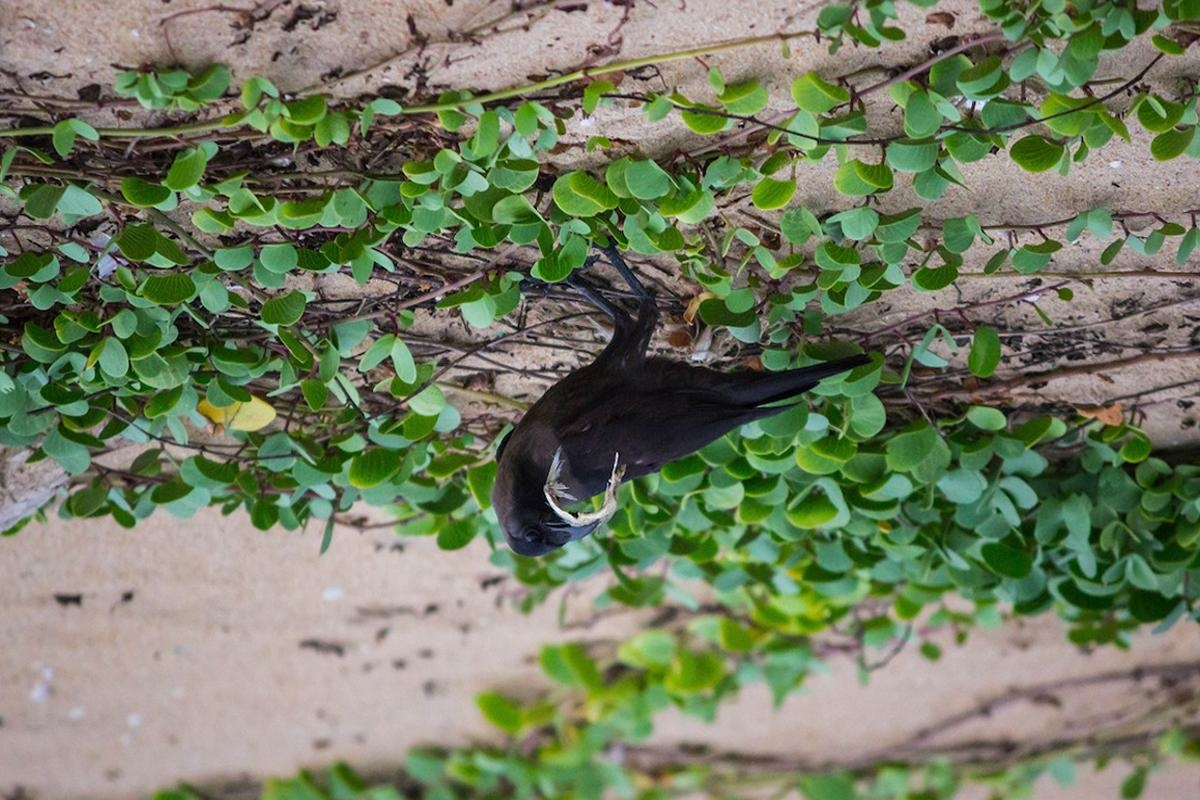crow: (496, 316, 819, 570)
